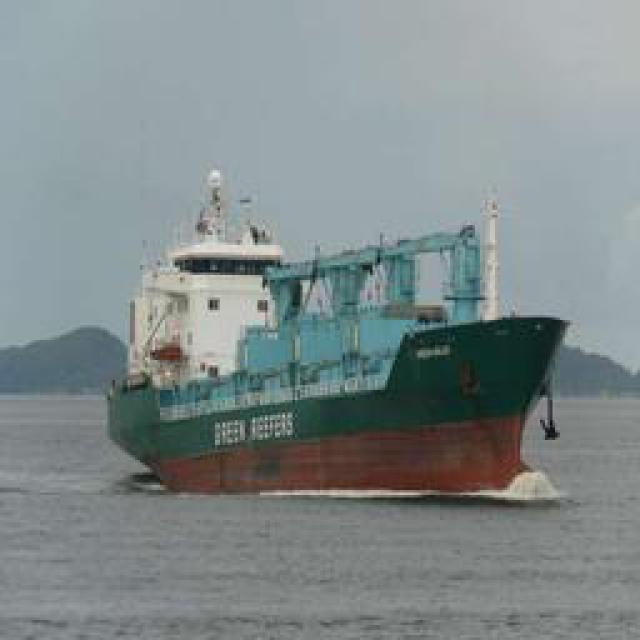Ship: (104, 162, 579, 492)
